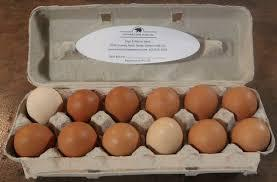egg: (101, 118, 142, 161), (56, 119, 100, 157), (186, 117, 230, 155), (10, 120, 56, 156), (146, 114, 184, 153), (24, 85, 63, 122), (232, 116, 272, 152), (63, 84, 100, 120), (186, 83, 223, 118), (223, 83, 260, 118), (104, 86, 142, 120), (144, 85, 184, 116)
